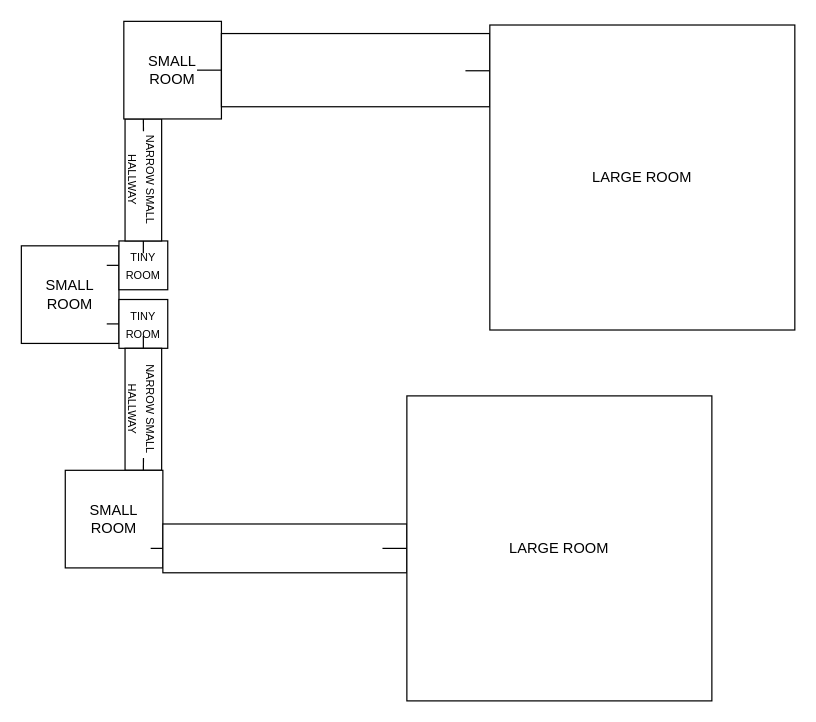
The diagram is 816 pixels wide and 722 high, and some of its shapes have lost their labels. The centre of each missing label's shape, as x and y in pixels:
"NARROW LARGE HALLWAY" goes at point (284, 548).
"WIDE SMALL HALLWAY" goes at point (355, 69).
